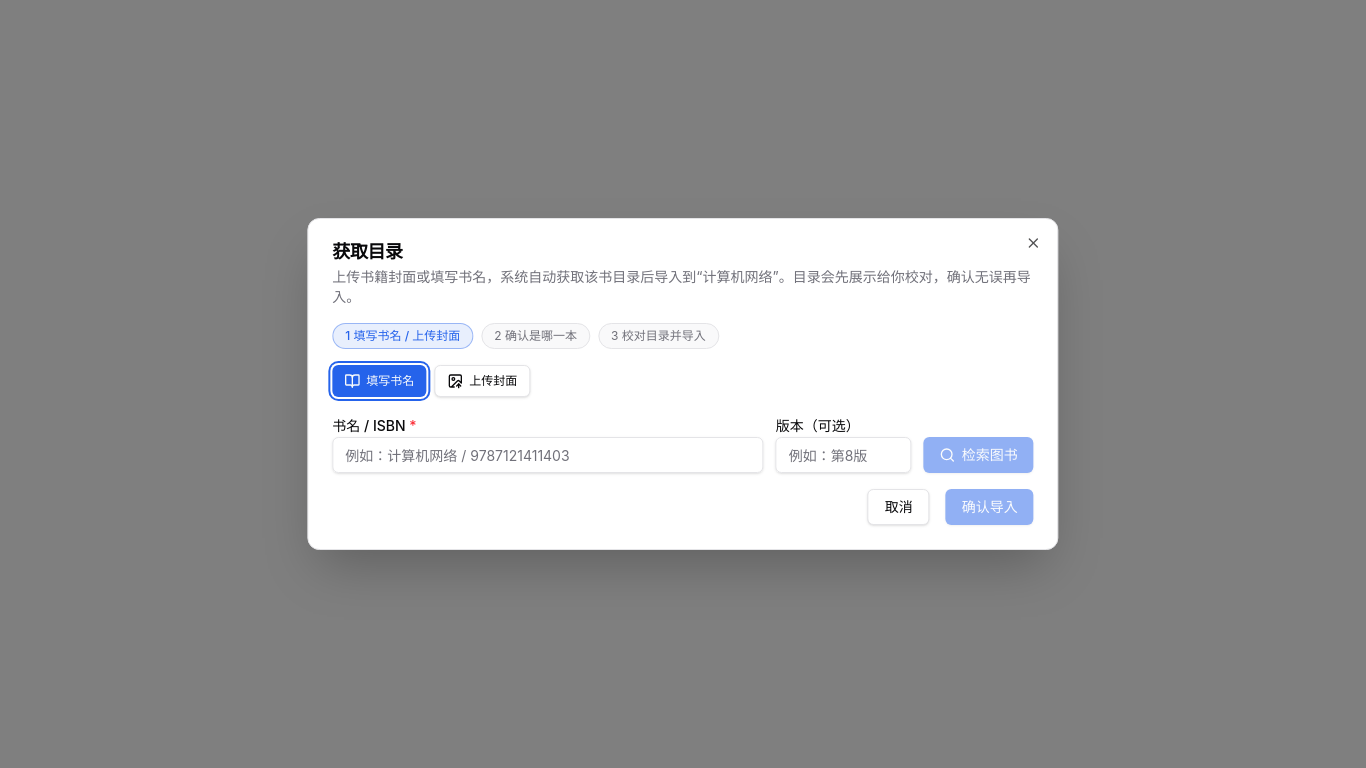
Scenario: KnowledgeCatalogWebDialog › lets the teacher jump back to earlier steps from the preview
Type "计算机网络" into the field labelled "书名 / ISBN *" at (548, 455), box [332,437,764,473]
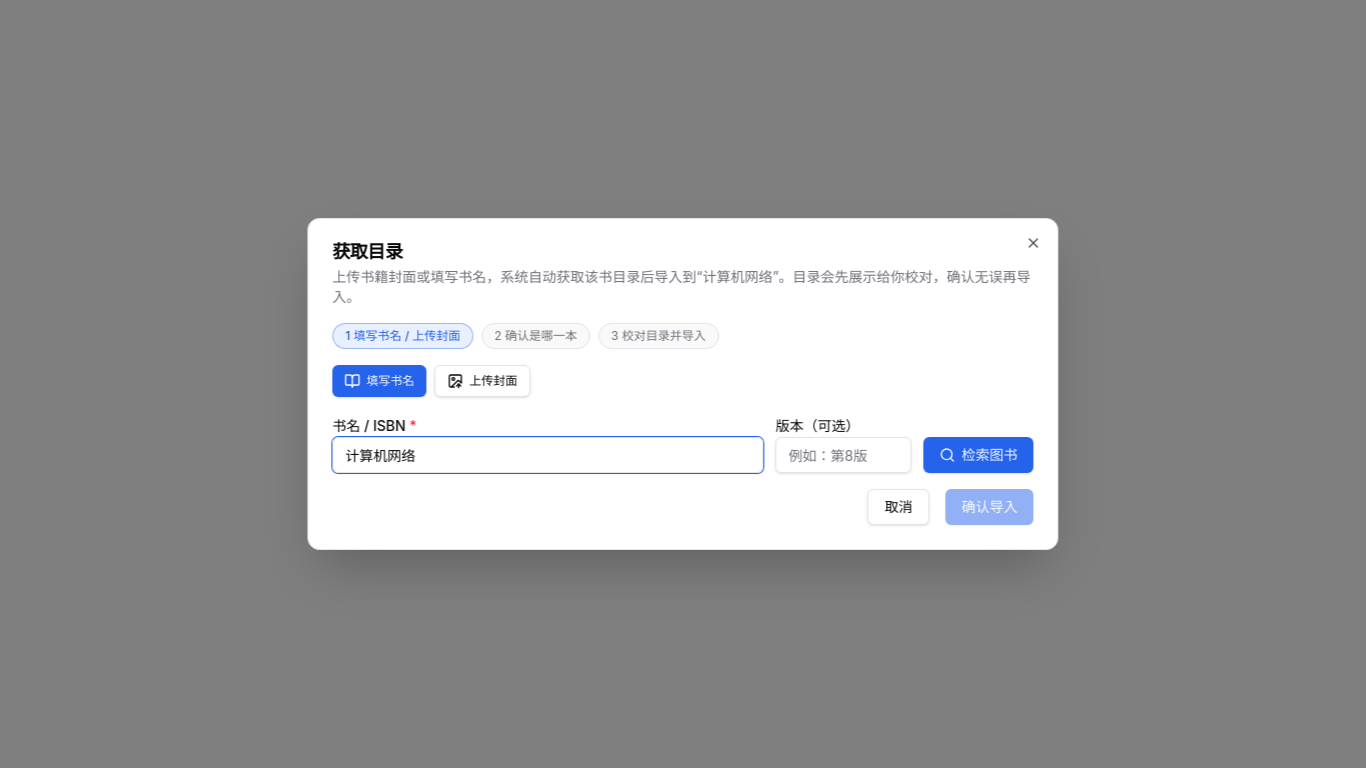
Click the button "检索图书" at (979, 455), box [924,437,1034,473]
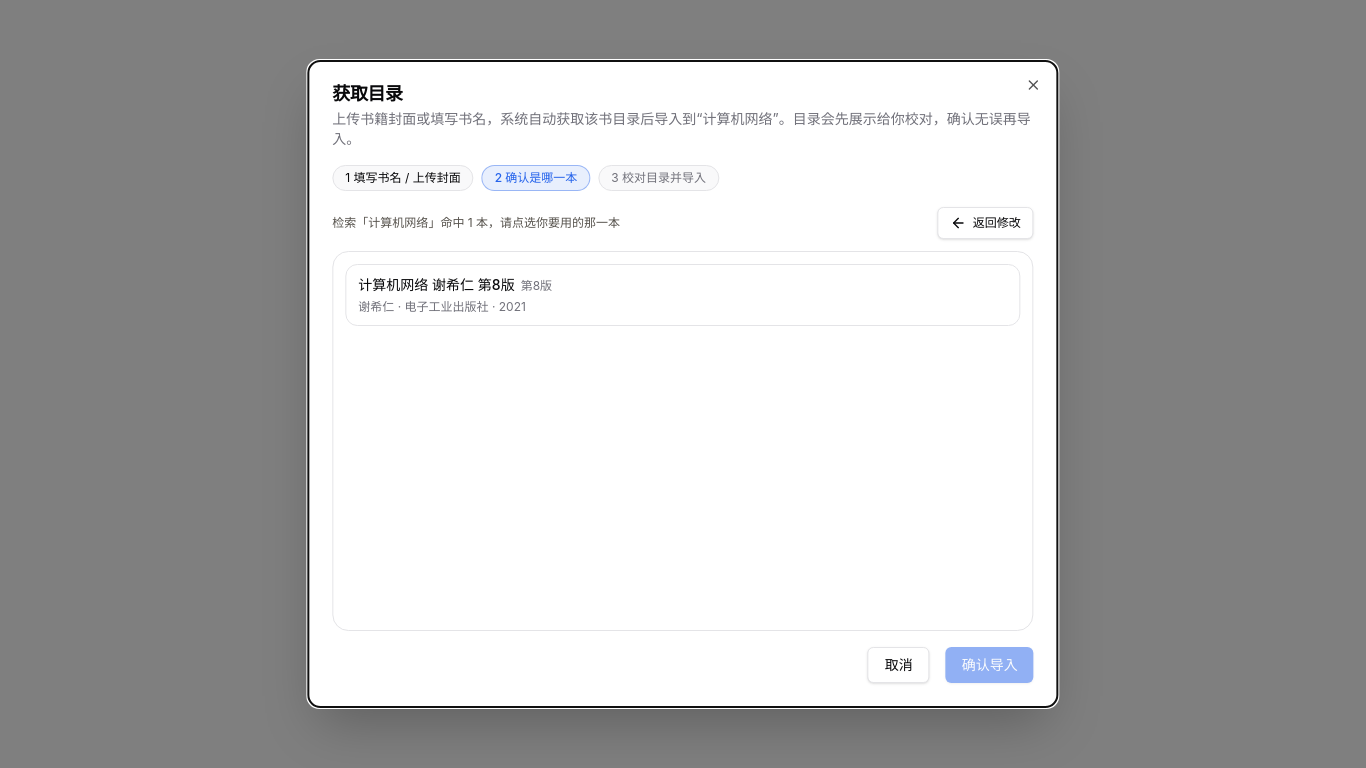
Click the button "计算机网络 谢希仁 第8版" at (436, 284), box [345,264,1021,326]
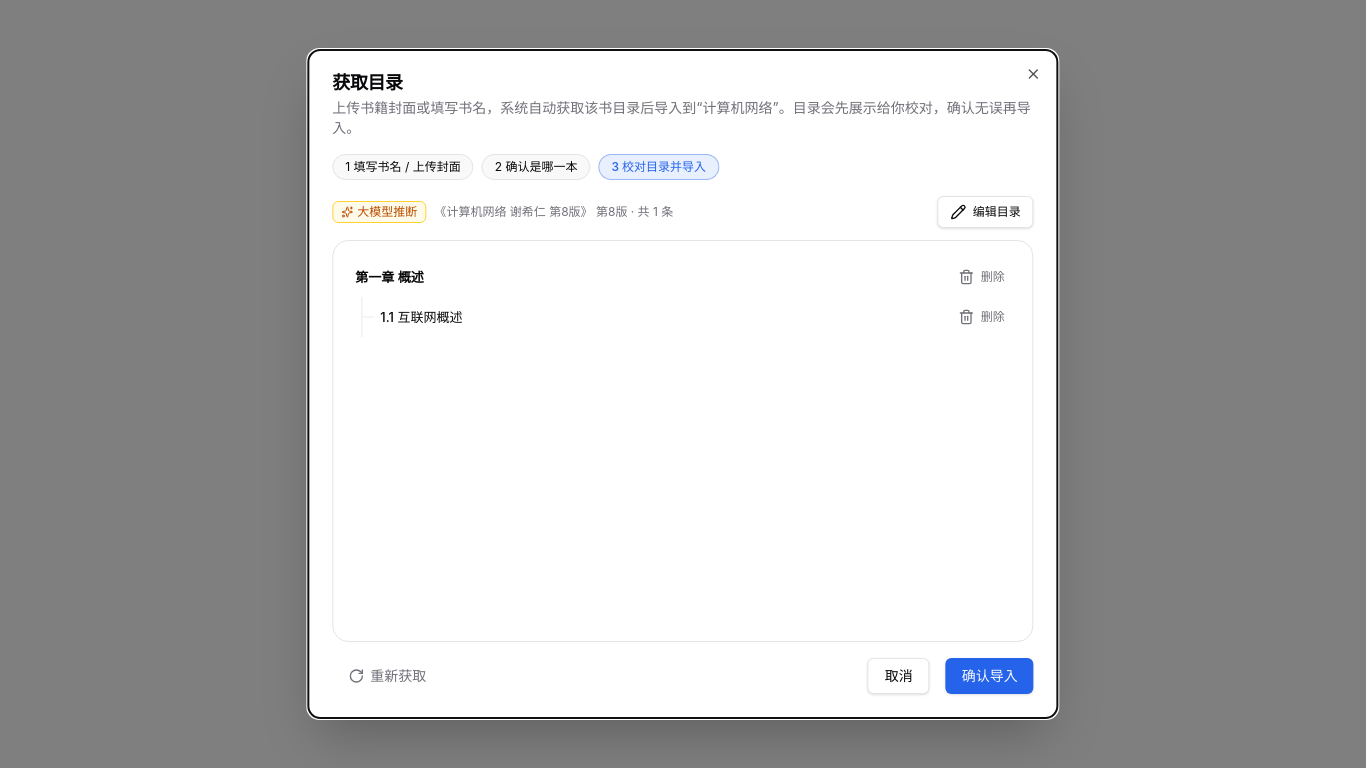
Expected: the text "1.1 互联网概述" is shown, [380,309,462,325]
# 退回第 1 步：输入框带着当前书名（选中那一本的标题）回来，第 2 / 第 3 步的数据也还在。
Click the button "1 填写书名 / 上传封面" at (403, 167), box [332,154,474,180]
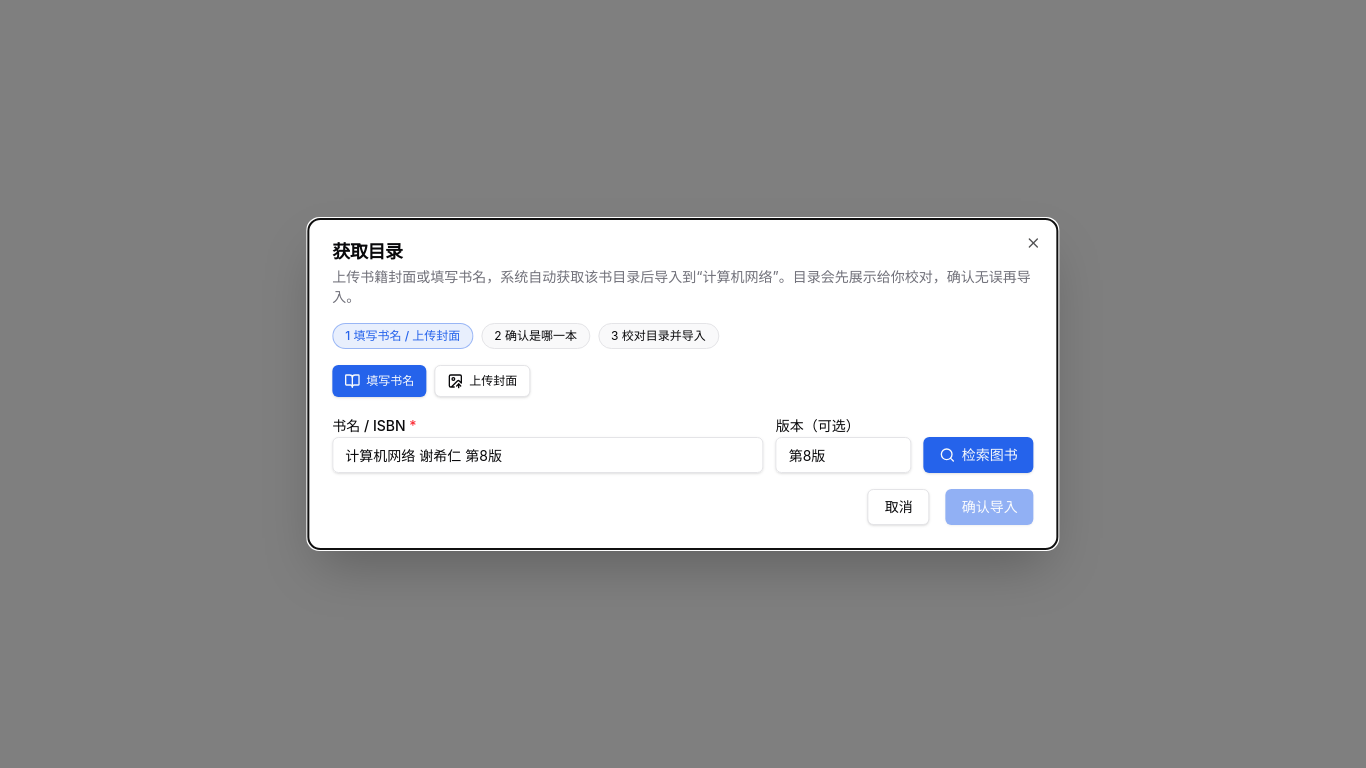
Expected: the field labelled "书名 / ISBN *" holds "计算机网络 谢希仁 第8版", [332,437,764,473]
Click the button "2 确认是哪一本" at (536, 336), box [481,323,590,349]
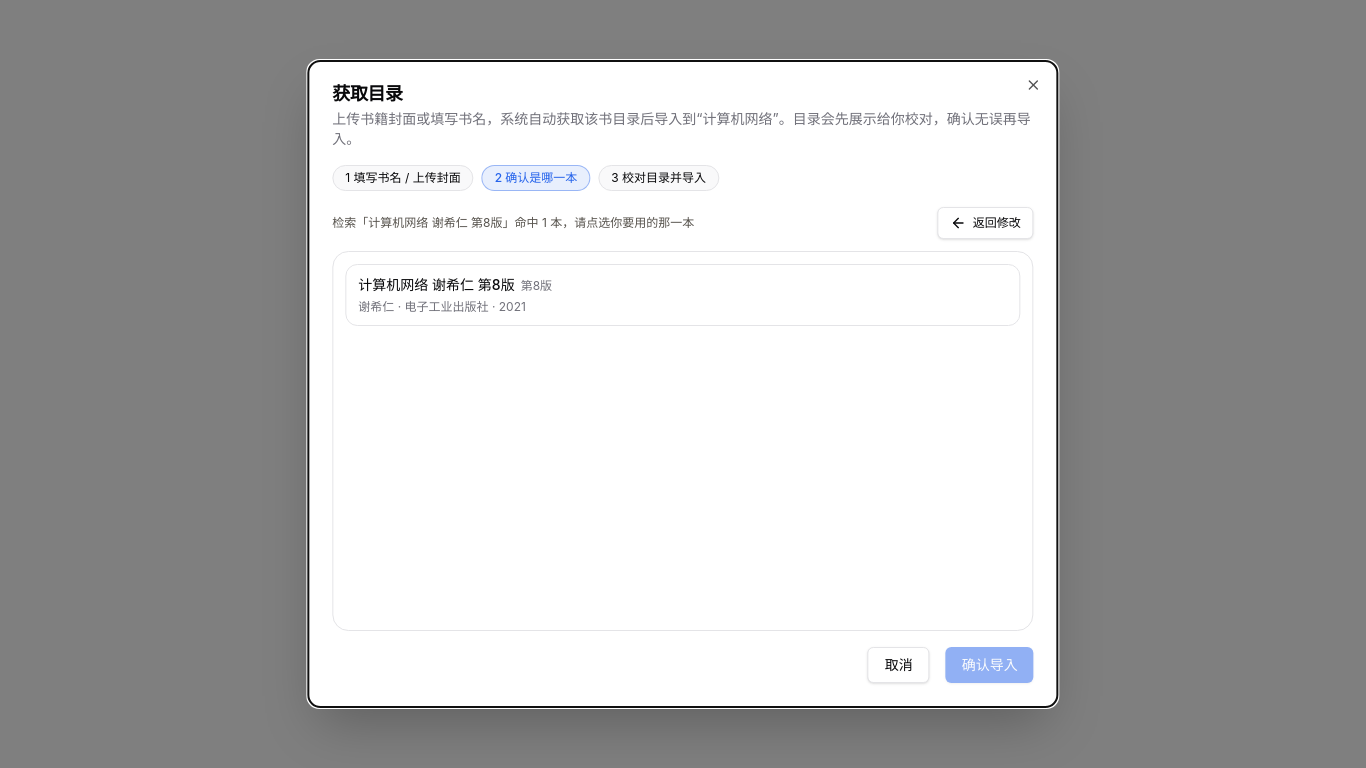
Expected: the text "检索「计算机网络 谢希仁 第8版」命中 1 本，请点选你要用的那一本" is shown, [332,215,694,231]
Click the button "3 校对目录并导入" at (659, 178), box [598,165,719,191]
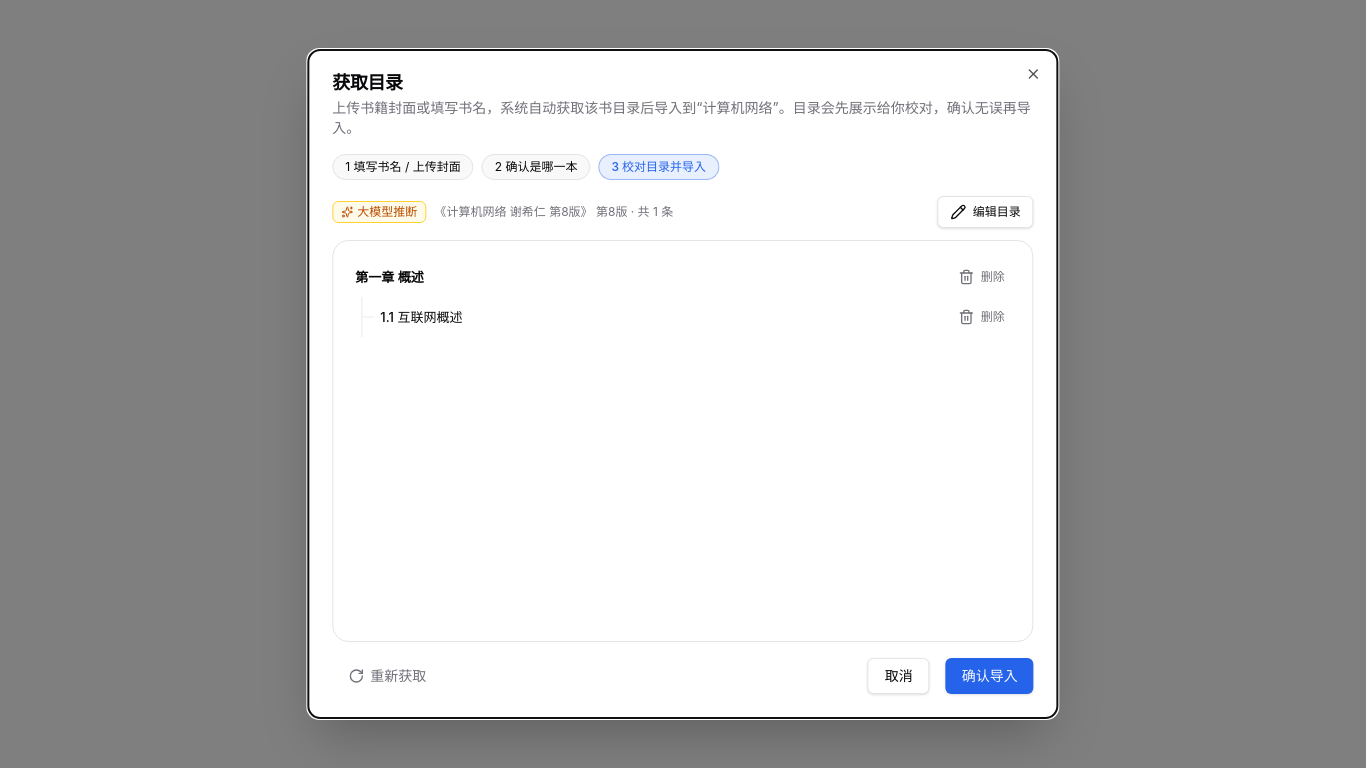
Expected: the text "1.1 互联网概述" is shown, [380,309,462,325]
